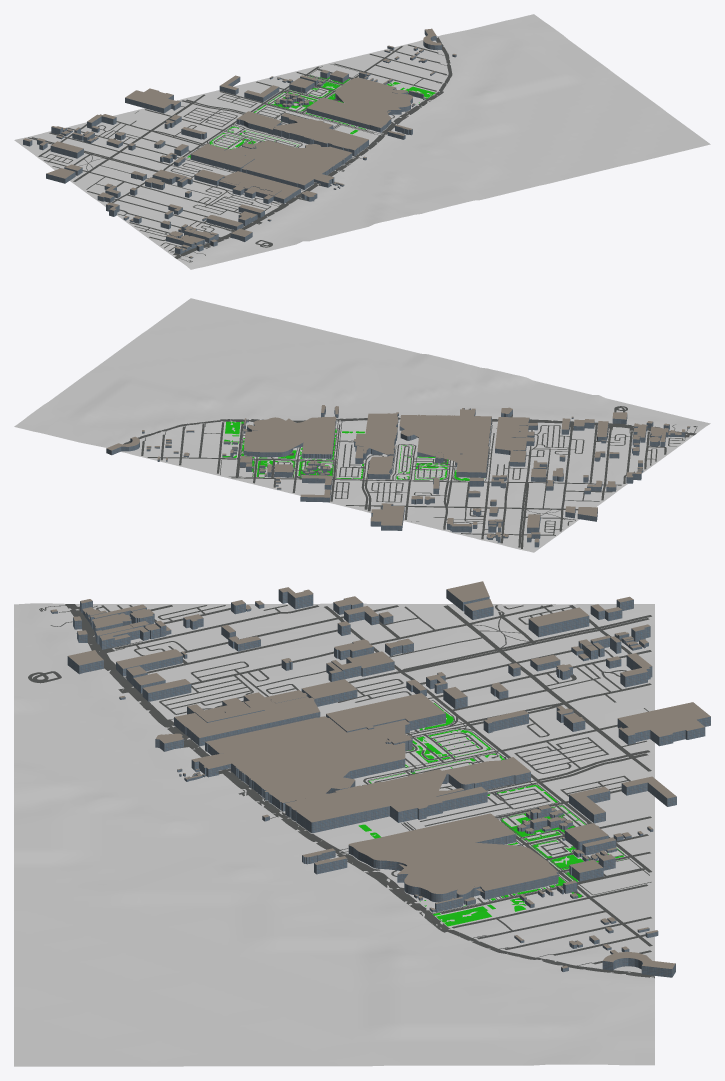
The model's file is 03_nj_atl_city.fbx.
The picture shows the model from 3 angles, top to bottom: view 1: azimuth 30°, elevation 25°; view 2: azimuth 150°, elevation 25°; view 3: azimuth 270°, elevation 25°; orthographic projection. The views are drawn at different scales.
Parts seen in each view (by area): view 1: Terrain, map_3.osm_buildings_top, map_3.osm_buildings, map_3.osm_roads_service, map_3.osm_roads_residential, map_3.osm_roads_tertiary, map_3.osm_areas_pedestrian, map_3.osm_vegetation, map_3.osm_paths_footway, map_3.osm_roads_pedestrian; view 2: Terrain, map_3.osm_buildings_top, map_3.osm_buildings, map_3.osm_roads_service, map_3.osm_roads_residential, map_3.osm_roads_tertiary, map_3.osm_vegetation, map_3.osm_paths_footway, map_3.osm_areas_pedestrian; view 3: Terrain, map_3.osm_buildings_top, map_3.osm_buildings, map_3.osm_roads_service, map_3.osm_roads_residential, map_3.osm_roads_tertiary, map_3.osm_areas_pedestrian, map_3.osm_vegetation, map_3.osm_paths_footway, map_3.osm_roads_pedestrian, map_3.osm_roads_primary.
Part boxes in pixels (<box>): Terrain: <box>14,14,710,269</box>; map_3.osm_buildings_top: <box>23,28,456,257</box>; map_3.osm_buildings: <box>23,30,456,258</box>; map_3.osm_roads_service: <box>40,78,423,251</box>; map_3.osm_roads_residential: <box>49,44,446,242</box>; map_3.osm_roads_tertiary: <box>28,66,342,202</box>; map_3.osm_areas_pedestrian: <box>173,36,452,258</box>; map_3.osm_vegetation: <box>187,75,435,158</box>; map_3.osm_paths_footway: <box>78,53,449,262</box>; map_3.osm_roads_pedestrian: <box>176,38,451,257</box>; Terrain: <box>14,298,710,552</box>; map_3.osm_buildings_top: <box>106,405,689,542</box>; map_3.osm_buildings: <box>106,407,690,547</box>; map_3.osm_roads_service: <box>203,424,684,535</box>; map_3.osm_roads_residential: <box>141,422,666,543</box>; map_3.osm_roads_tertiary: <box>231,459,621,548</box>; map_3.osm_vegetation: <box>222,421,484,480</box>; map_3.osm_paths_footway: <box>144,416,697,521</box>; map_3.osm_areas_pedestrian: <box>124,414,696,478</box>; Terrain: <box>14,603,654,1066</box>; map_3.osm_buildings_top: <box>51,581,710,968</box>; map_3.osm_buildings: <box>50,589,710,977</box>; map_3.osm_roads_service: <box>96,605,646,931</box>; map_3.osm_roads_residential: <box>114,605,652,964</box>; map_3.osm_roads_tertiary: <box>324,604,651,872</box>; map_3.osm_areas_pedestrian: <box>65,604,654,978</box>; map_3.osm_vegetation: <box>358,703,625,926</box>; map_3.osm_paths_footway: <box>39,605,651,966</box>; map_3.osm_roads_pedestrian: <box>68,605,648,976</box>; map_3.osm_roads_primary: <box>443,605,649,758</box>.
Bounding box in the file's own units: 194506 × 2804 × 121028.
